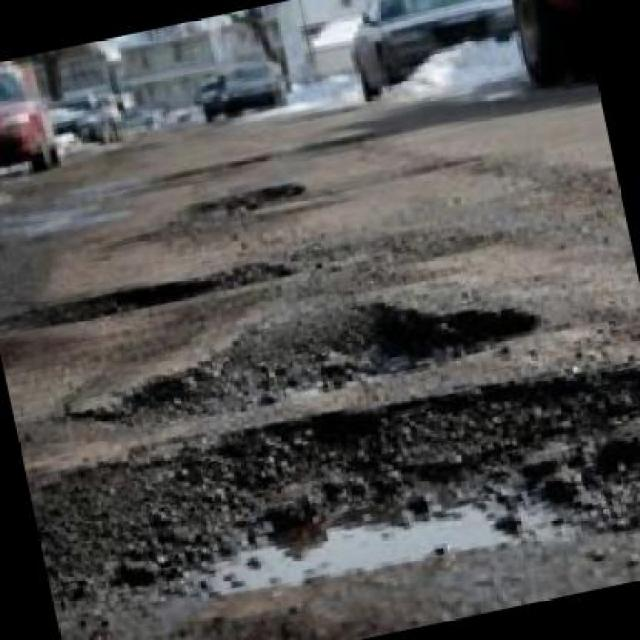pothole1: (24, 338, 638, 638), (48, 261, 546, 450), (0, 240, 303, 342), (170, 172, 308, 232)
